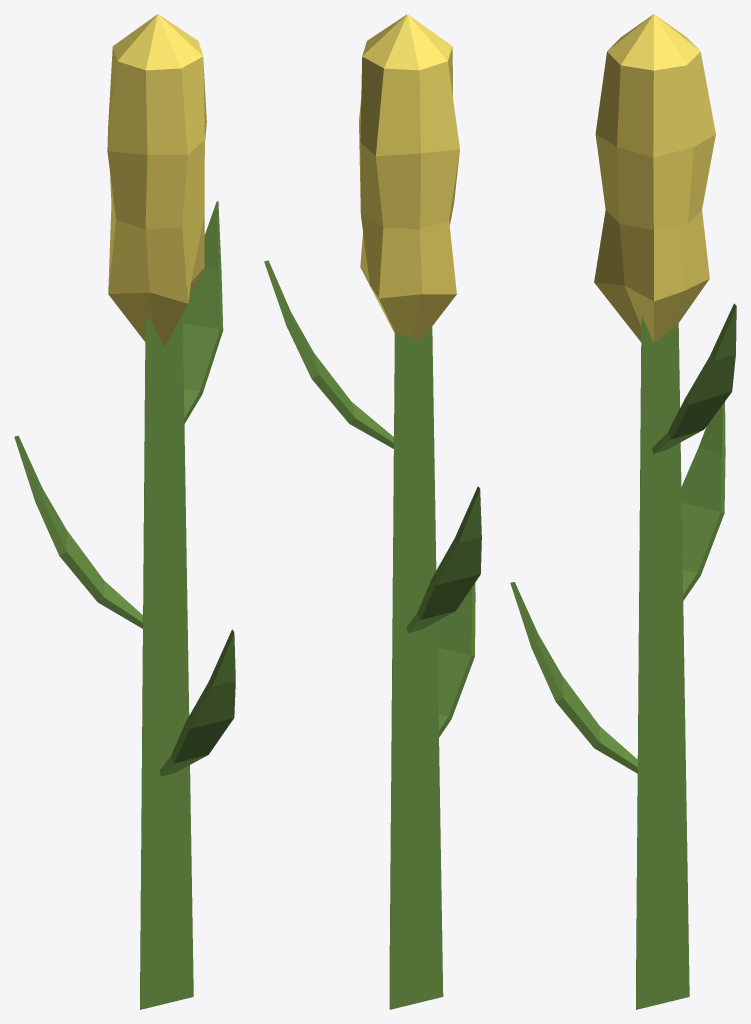
The model's file is corn.fbx.
3 renders of one model, left to right at view 1: azimuth 30°, elevation 25°; view 2: azimuth 150°, elevation 25°; view 3: azimuth 270°, elevation 25°, orthographic.
Visible parts, largest first — view 1: Circle, Cone, Grid.034, Grid.033, Grid.032; view 2: Circle, Cone, Grid.032, Grid.033, Grid.034; view 3: Cone, Circle, Grid.032, Grid.034, Grid.033.
Boxes of the visible parts, x1,y1,x2,y2 form: Circle: [140, 315, 193, 1009]; Cone: [107, 14, 206, 346]; Grid.034: [182, 201, 223, 423]; Grid.033: [160, 629, 235, 776]; Grid.032: [14, 435, 142, 628]; Circle: [389, 327, 443, 1009]; Cone: [359, 14, 459, 342]; Grid.032: [406, 486, 481, 632]; Grid.033: [437, 583, 475, 737]; Grid.034: [264, 260, 393, 448]; Cone: [594, 14, 715, 342]; Circle: [636, 315, 689, 1009]; Grid.032: [681, 402, 725, 600]; Grid.034: [652, 303, 736, 454]; Grid.033: [510, 582, 637, 773].
Size of the model in its own units: 31.54 by 141 by 29.43.
